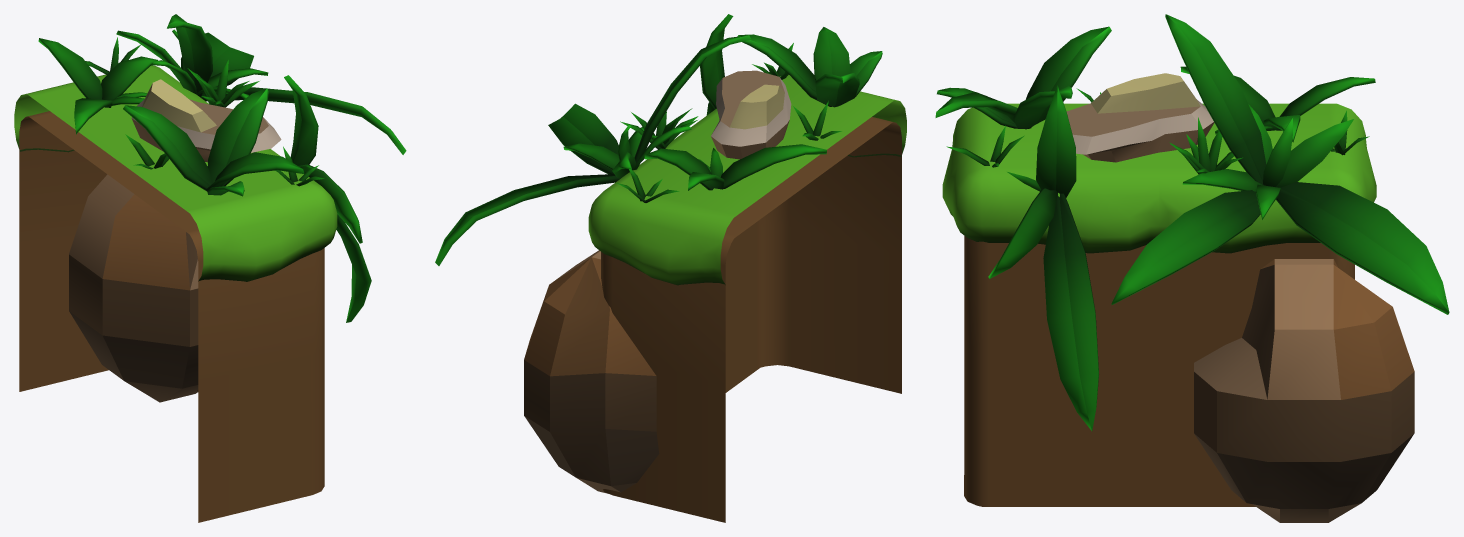
Rendered from Tutor_Island_02.fbx.
3 views of the same model, side by side, from view 1: azimuth 30°, elevation 25°; view 2: azimuth 150°, elevation 25°; view 3: azimuth 270°, elevation 25° (orthographic). The views are drawn at different scales.
Visible parts, largest first — view 1: Island_02; view 2: Island_02; view 3: Island_02.
Boxes of the visible parts, left/top/right/bottom form: Island_02: left=14, top=14, right=406, bottom=522; Island_02: left=435, top=14, right=906, bottom=522; Island_02: left=935, top=14, right=1449, bottom=522.
Size of the model in its own units: 4437 by 6056 by 6044.
